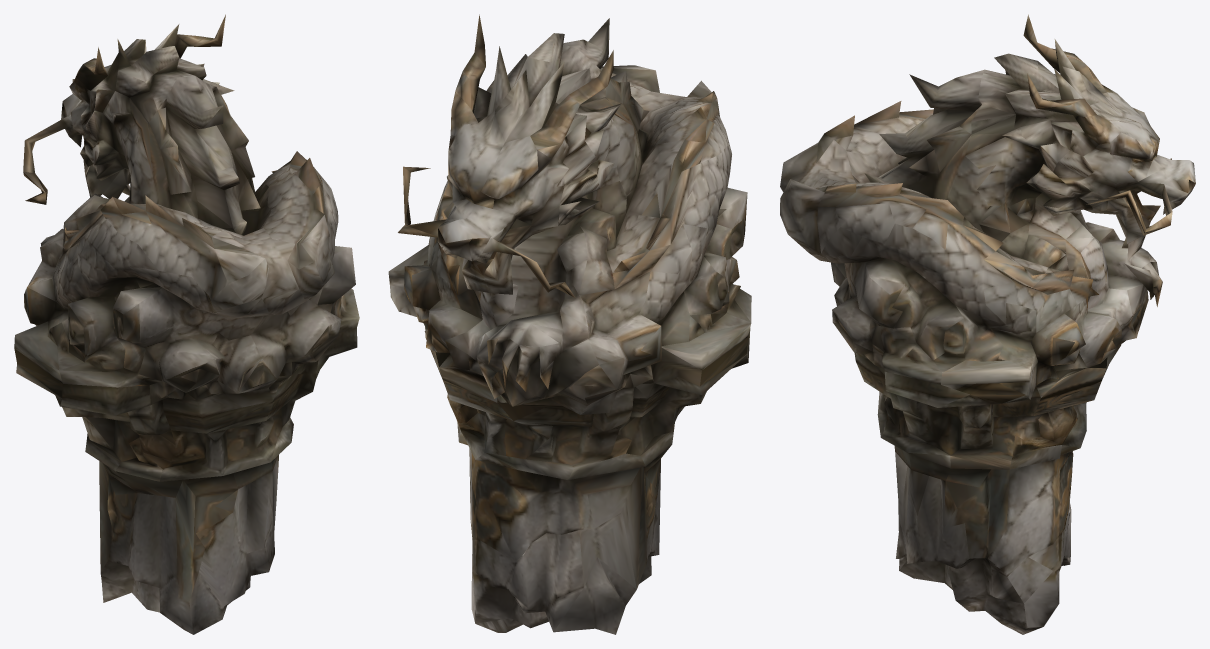
File: capital.glb
The picture shows the model from 3 angles, left to right: view 1: azimuth 30°, elevation 25°; view 2: azimuth 150°, elevation 25°; view 3: azimuth 270°, elevation 25°; orthographic projection. The views are drawn at different scales.
Visible parts, largest first — view 1: tripo_node_07fb1254-7687-4eca-b337-6a559e9419e5; view 2: tripo_node_07fb1254-7687-4eca-b337-6a559e9419e5; view 3: tripo_node_07fb1254-7687-4eca-b337-6a559e9419e5.
Part boxes in pixels (left/top/right/bottom): tripo_node_07fb1254-7687-4eca-b337-6a559e9419e5: left=14, top=14, right=359, bottom=634; tripo_node_07fb1254-7687-4eca-b337-6a559e9419e5: left=388, top=14, right=751, bottom=634; tripo_node_07fb1254-7687-4eca-b337-6a559e9419e5: left=780, top=14, right=1195, bottom=634.
Bounding box in the file's own units: 0.5251 × 0.9807 × 0.6489.
1 material, 1 textured.
